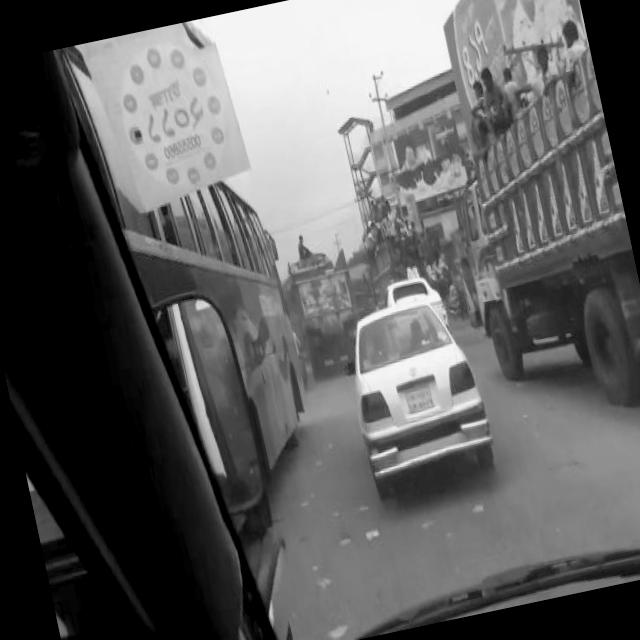bus: (112, 163, 330, 517)
car: (334, 286, 502, 514)
truck: (421, 41, 640, 443), (277, 240, 373, 386)
